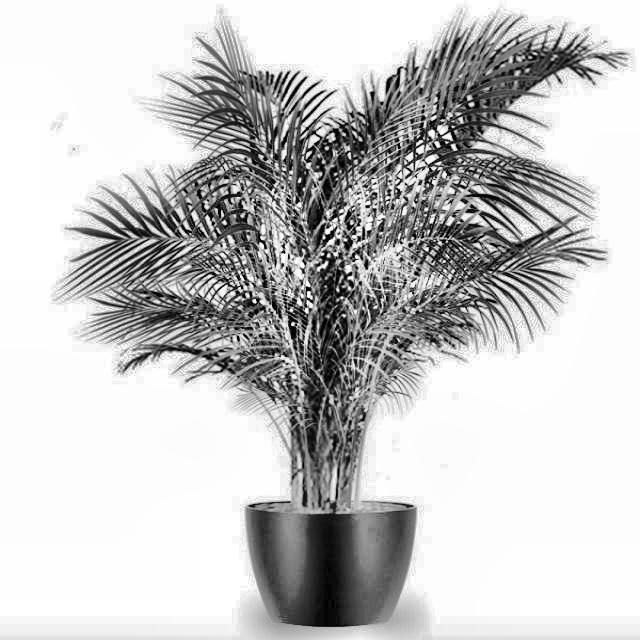plants: (84, 45, 587, 640)
